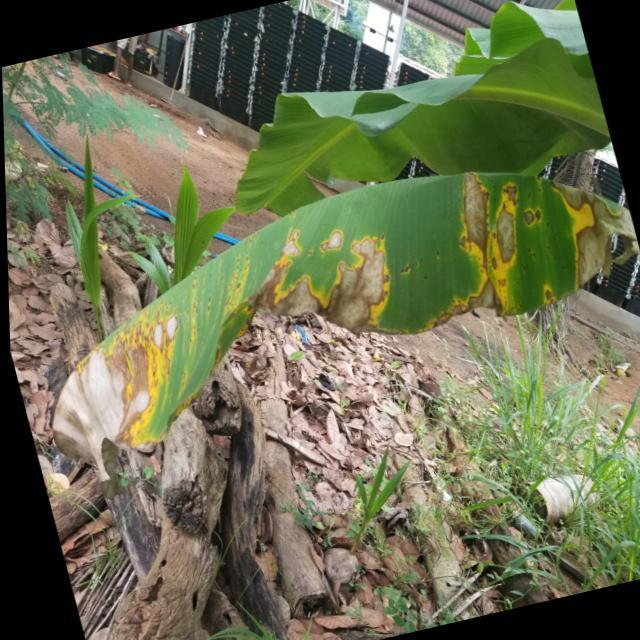Early_rust: (44, 165, 631, 451)
